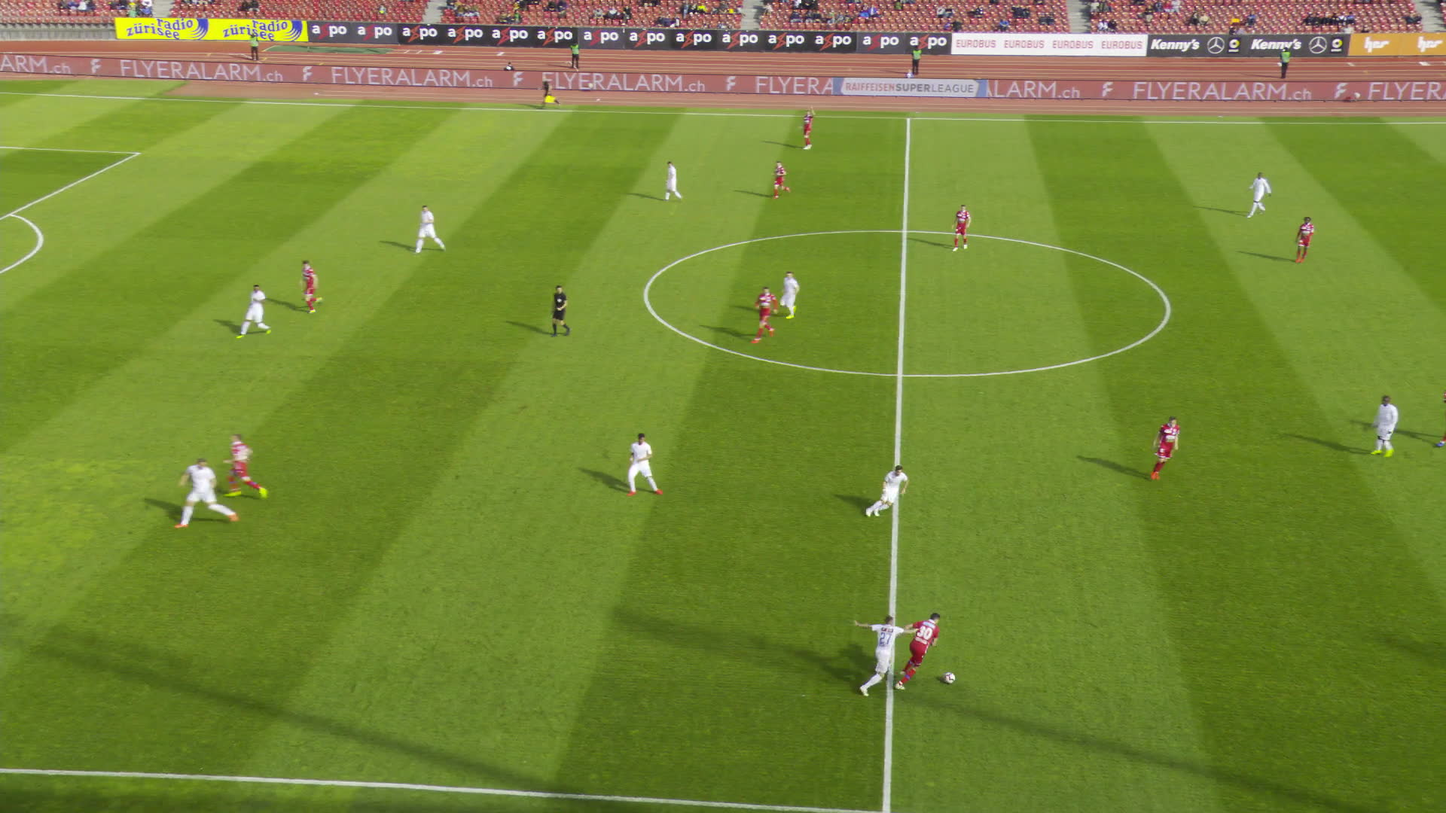ball: (944, 672, 955, 684)
player: (855, 614, 917, 697), (177, 458, 246, 528), (898, 614, 942, 691), (236, 434, 274, 504), (627, 434, 667, 495), (863, 463, 908, 517), (1150, 416, 1185, 481), (1372, 394, 1404, 456), (243, 282, 273, 336), (416, 203, 448, 252), (303, 258, 331, 313), (758, 286, 782, 343), (1248, 172, 1274, 217), (786, 269, 805, 318), (772, 160, 795, 199), (953, 204, 972, 251), (1298, 216, 1316, 263), (666, 160, 686, 201), (805, 105, 818, 150)
referee: (551, 284, 575, 338), (545, 74, 563, 108)
